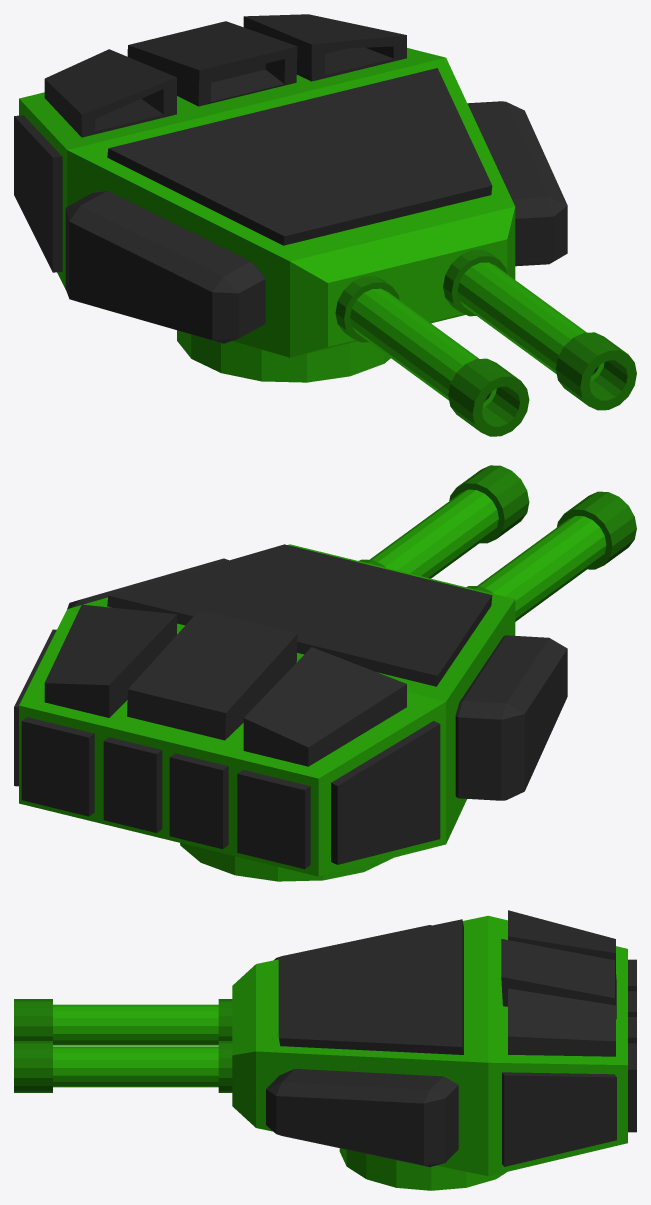
Rendered from Cabina3.fbx.
3 views of the same model, one above another, from view 1: azimuth 30°, elevation 25°; view 2: azimuth 150°, elevation 25°; view 3: azimuth 270°, elevation 25° (orthographic). The views are drawn at different scales.
Visible parts, largest first — view 1: Gun_23.001; view 2: Gun_23.001; view 3: Gun_23.001.
Part boxes in pixels (<box>): Gun_23.001: <box>14,14,636,436</box>; Gun_23.001: <box>14,465,636,881</box>; Gun_23.001: <box>14,910,636,1190</box>.
Bounding box in the file's own units: 155 × 79.03 × 230.
